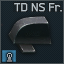P226 Meprolight TRU-DOT Night front sight: (0, 0, 64, 64)
